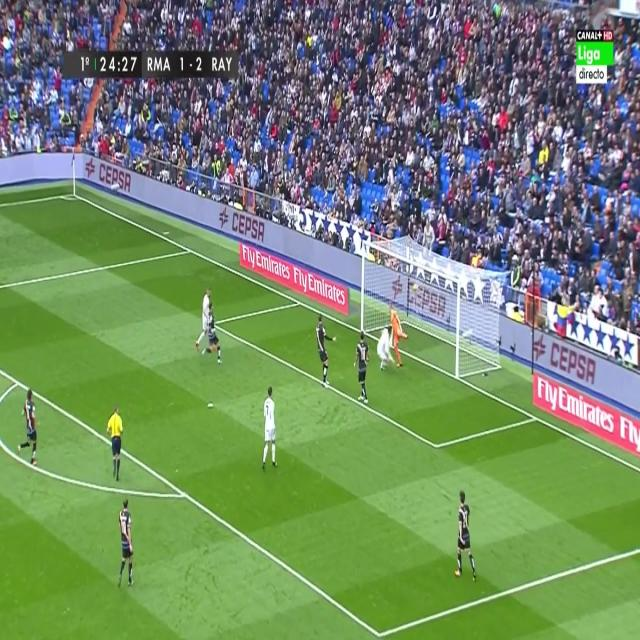Ball: (462, 326, 474, 342)
Goalkeeper: (387, 306, 410, 370)
Player: (452, 484, 478, 582), (313, 313, 340, 388), (17, 388, 40, 469), (260, 384, 280, 475), (117, 498, 134, 590), (353, 333, 371, 405), (202, 300, 222, 363), (195, 285, 214, 350), (376, 325, 394, 373)
Referee: (104, 402, 128, 482)
